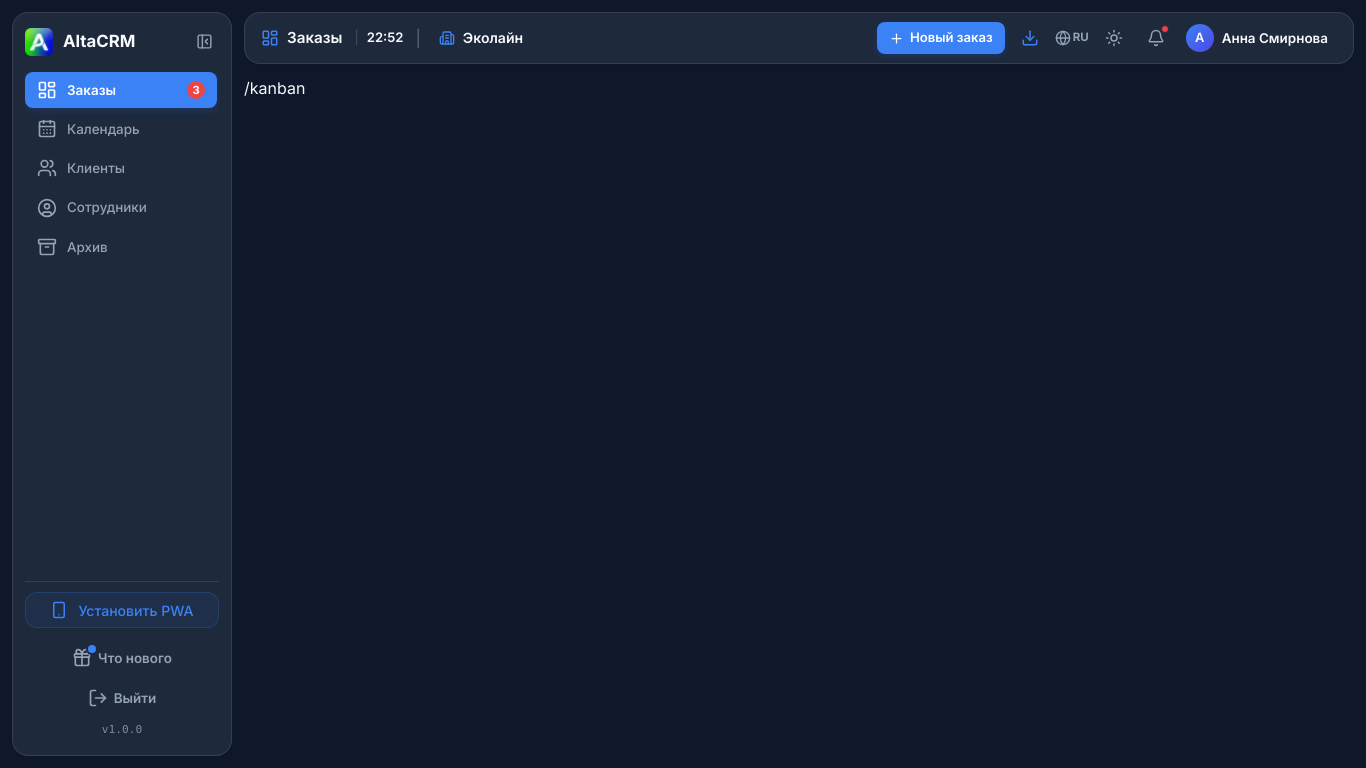
DashboardLayout › marks a notification as read and opens its order
Expected: the element with class "notification-badge" is shown, [1161,25,1169,33]
Click the button titled "Уведомления" at (1156, 38), box [1139,21,1173,55]
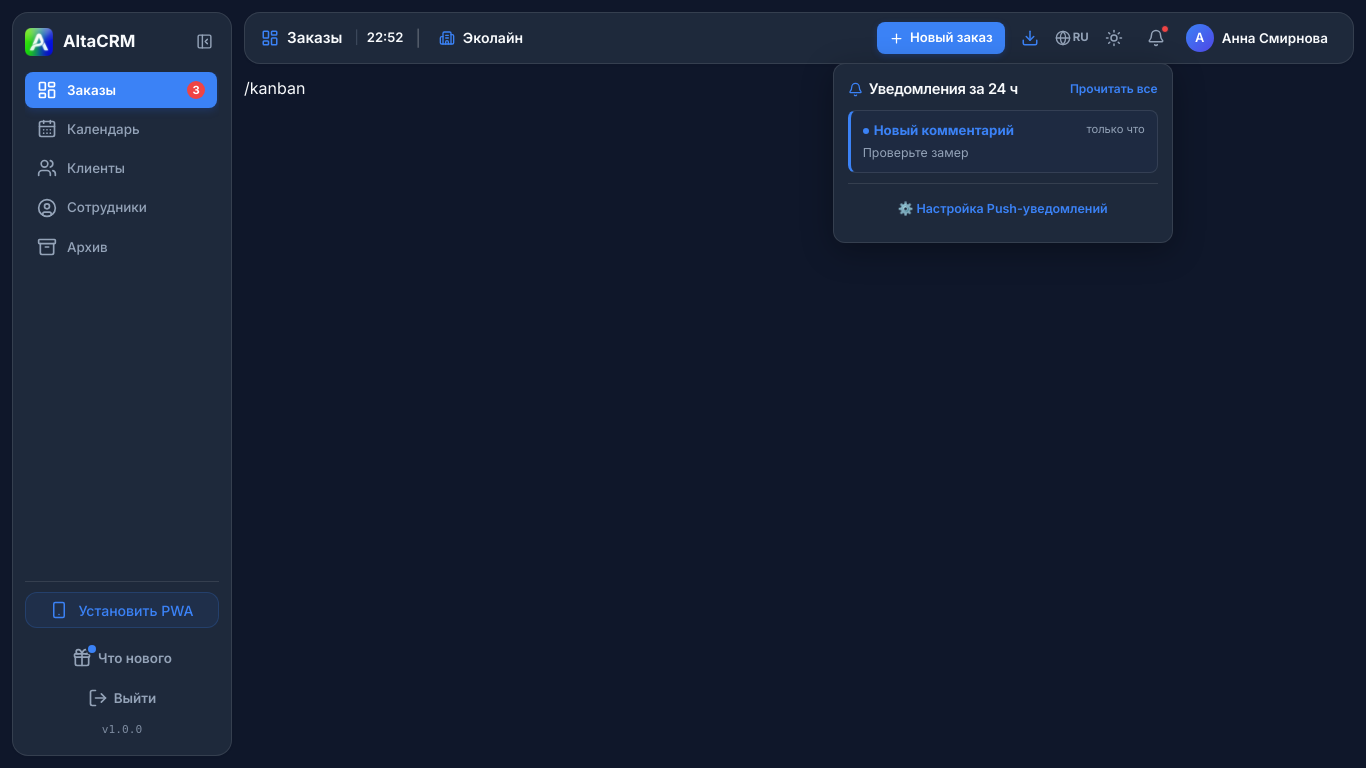
Click the text "Новый комментарий" at (938, 131), box [863,121,1014,141]
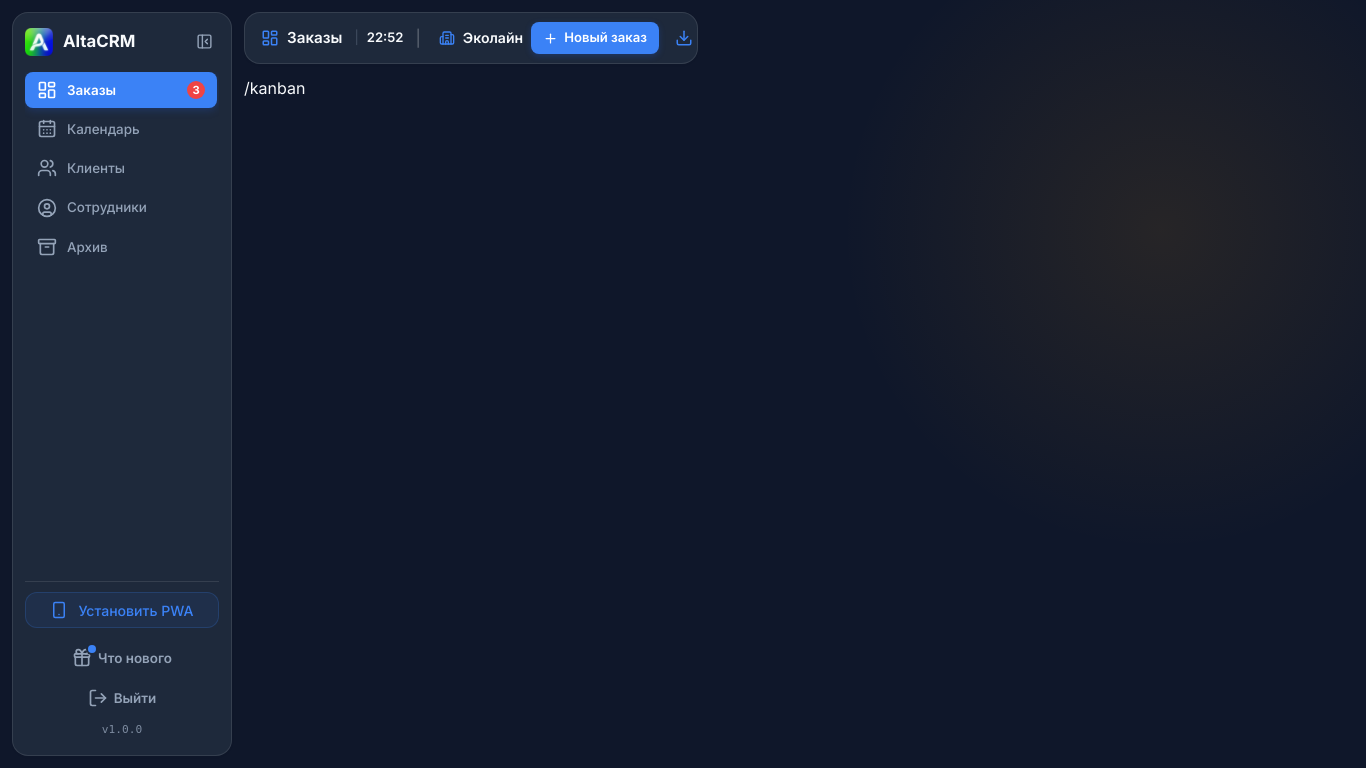
Now the heading "Уведомления за 24 ч" is gone
